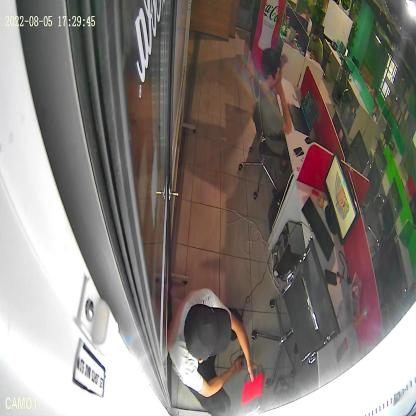red: (240, 365, 265, 413)
